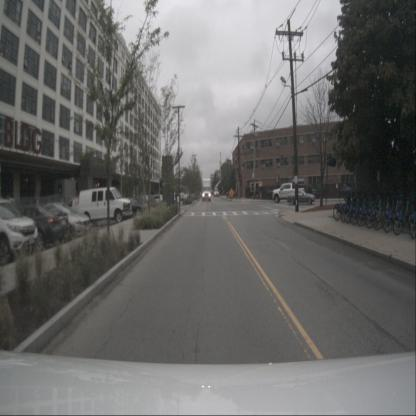vehicle-car: (0, 200, 38, 265), (14, 206, 71, 249), (78, 187, 132, 226), (35, 203, 91, 237), (66, 197, 101, 221), (115, 200, 148, 216), (287, 190, 315, 204), (166, 193, 180, 205), (148, 194, 164, 204), (175, 192, 188, 202)
vehicle-truck: (272, 183, 305, 202), (201, 179, 211, 202)
